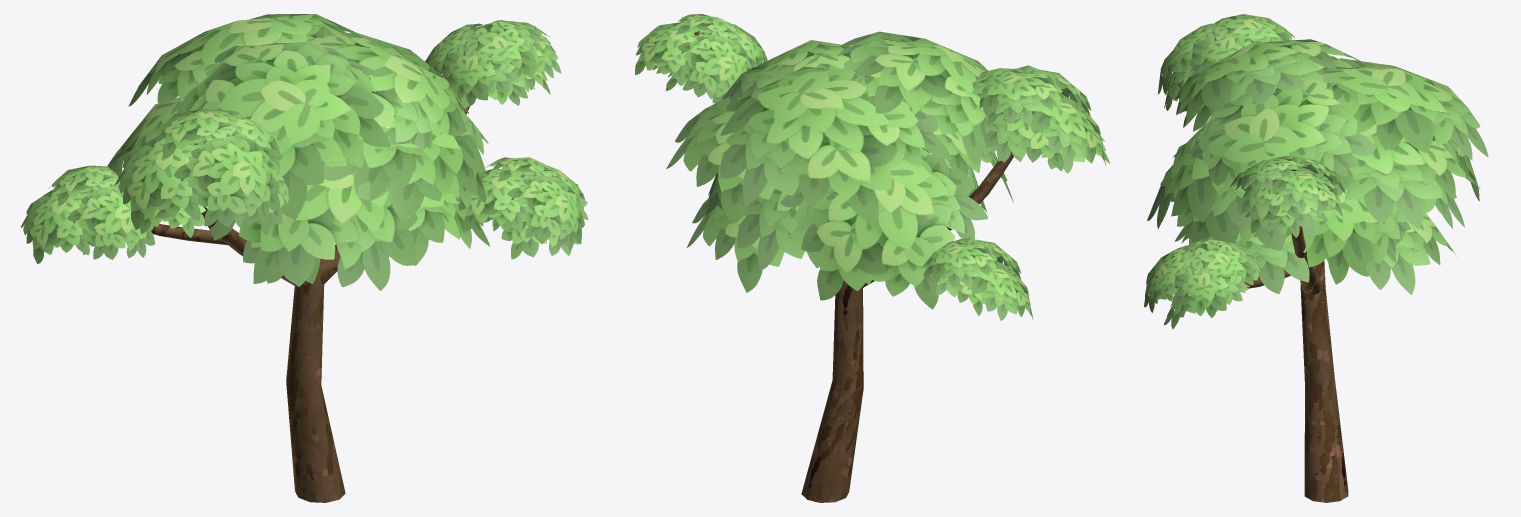
Rendered from tree_5.glb.
The picture shows the model from 3 angles, left to right: view 1: azimuth 30°, elevation 25°; view 2: azimuth 150°, elevation 25°; view 3: azimuth 270°, elevation 25°; orthographic projection. The views are drawn at different scales.
Parts seen in each view (by area): view 1: Tree_5; view 2: Tree_5; view 3: Tree_5.
Part boxes in pixels (box(x1,y1,x2,y2)): Tree_5: box(20, 14, 588, 502); Tree_5: box(635, 14, 1109, 502); Tree_5: box(1144, 14, 1488, 502).
Size of the model in its own units: 6.74 by 6.36 by 4.98.
Materials: 2 (2 with a texture image).
